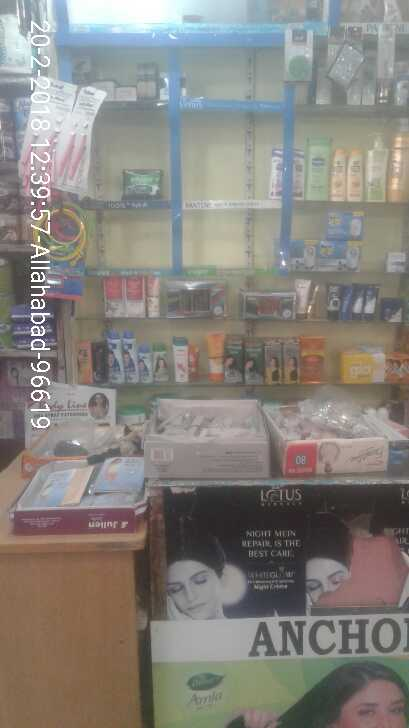venus: (23, 81, 63, 201), (63, 87, 100, 186)
